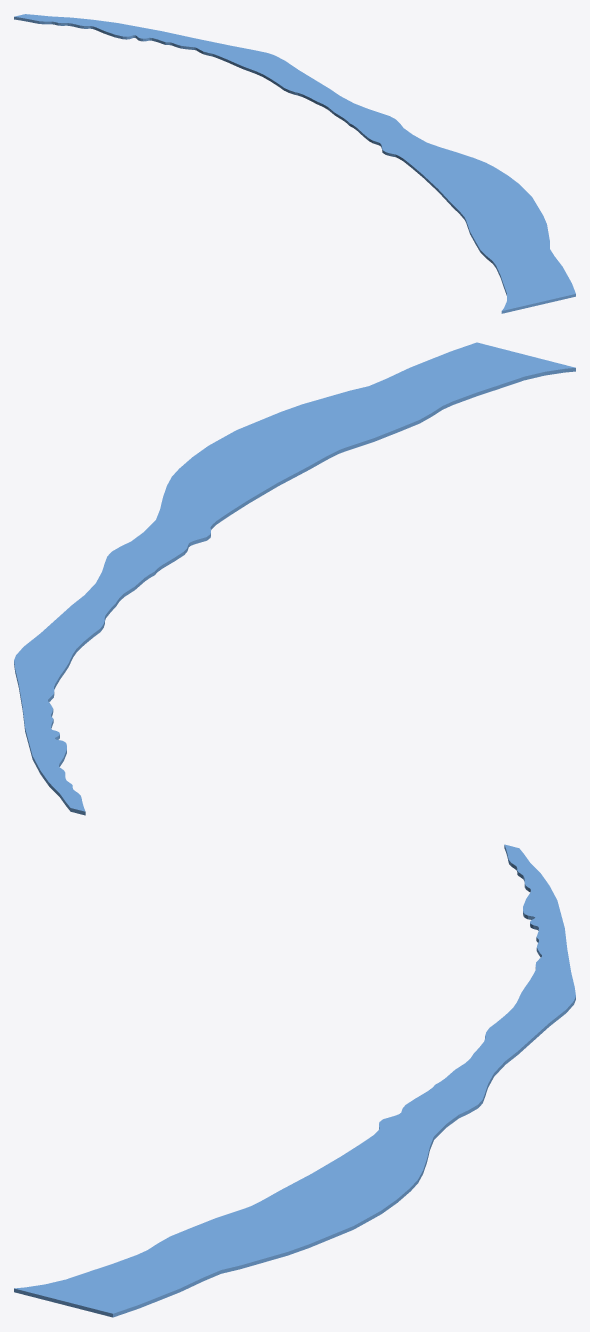
3 renders of one model, top to bottom at view 1: azimuth 30°, elevation 25°; view 2: azimuth 150°, elevation 25°; view 3: azimuth 330°, elevation 25°, orthographic. The views are drawn at different scales.
Bounding box in the file's own units: 239 × 3.05 × 846.
